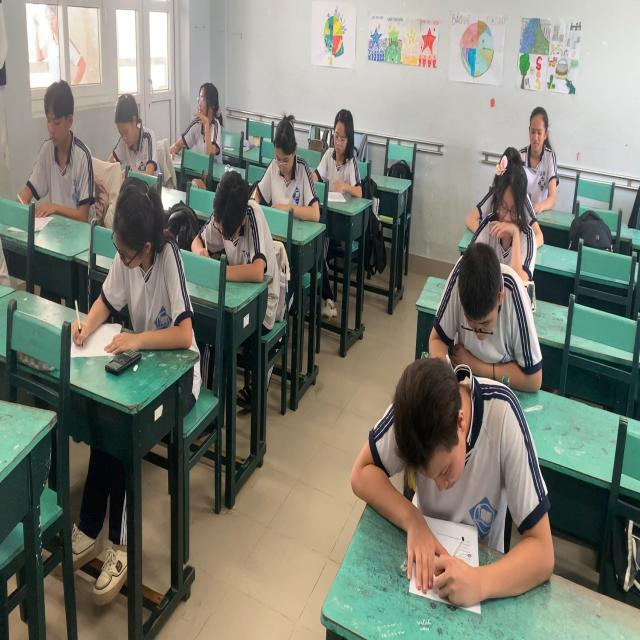not_cheating: (367, 348, 528, 582), (100, 174, 190, 364), (418, 222, 528, 364), (27, 57, 93, 212), (205, 166, 279, 287), (254, 108, 309, 221), (481, 155, 535, 255), (105, 81, 158, 175), (514, 94, 570, 176), (174, 73, 220, 172), (326, 94, 366, 203)
